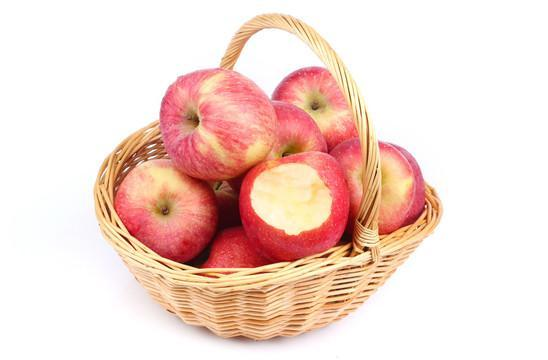apple: (158, 67, 278, 180), (239, 150, 351, 264), (112, 154, 219, 265), (329, 137, 417, 233), (229, 101, 327, 187), (271, 67, 360, 147), (197, 226, 270, 279)
